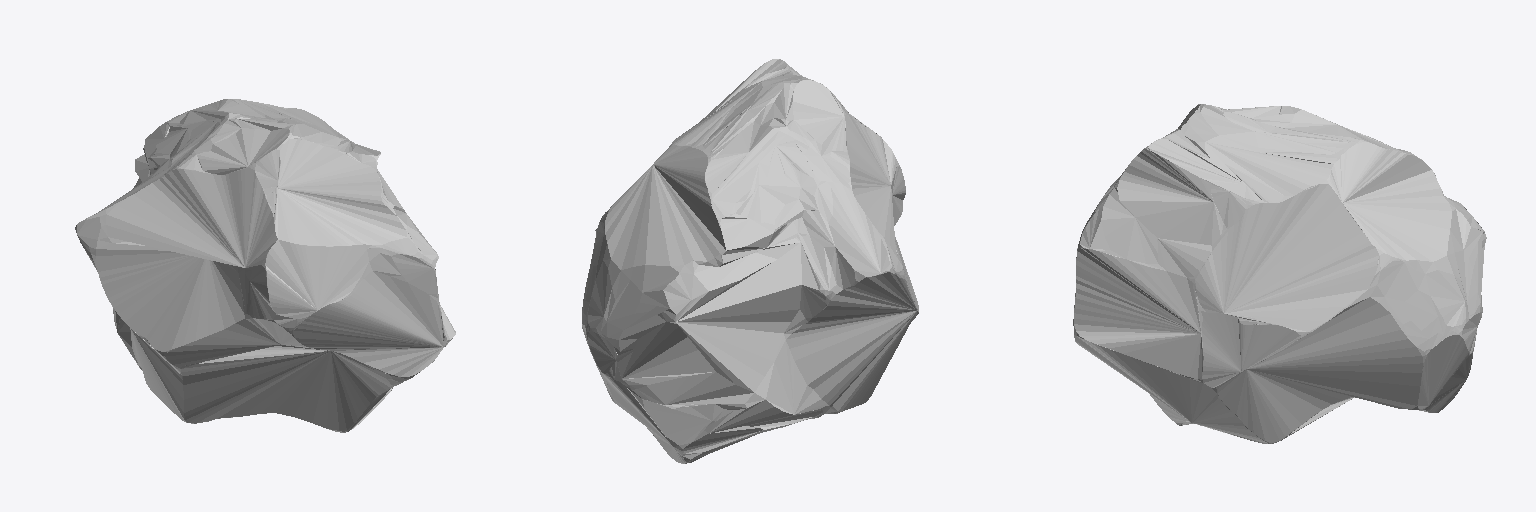
Rendered from Stone1.obj.
3 renders of one model, left to right at view 1: azimuth 30°, elevation 25°; view 2: azimuth 150°, elevation 25°; view 3: azimuth 270°, elevation 25°, orthographic.
Visible parts, largest first — view 1: Stone_1; view 2: Stone_1; view 3: Stone_1.
Part boxes in pixels (left/top/right/bottom): Stone_1: left=75, top=99, right=455, bottom=432; Stone_1: left=582, top=59, right=918, bottom=463; Stone_1: left=1073, top=104, right=1486, bottom=443.
Size of the model in its own units: 2.26 by 2.12 by 2.63.